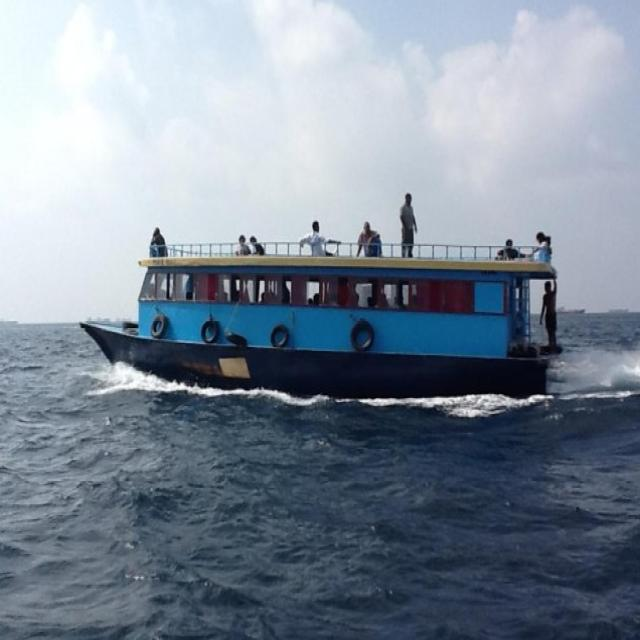houseboat: (83, 205, 568, 418)
